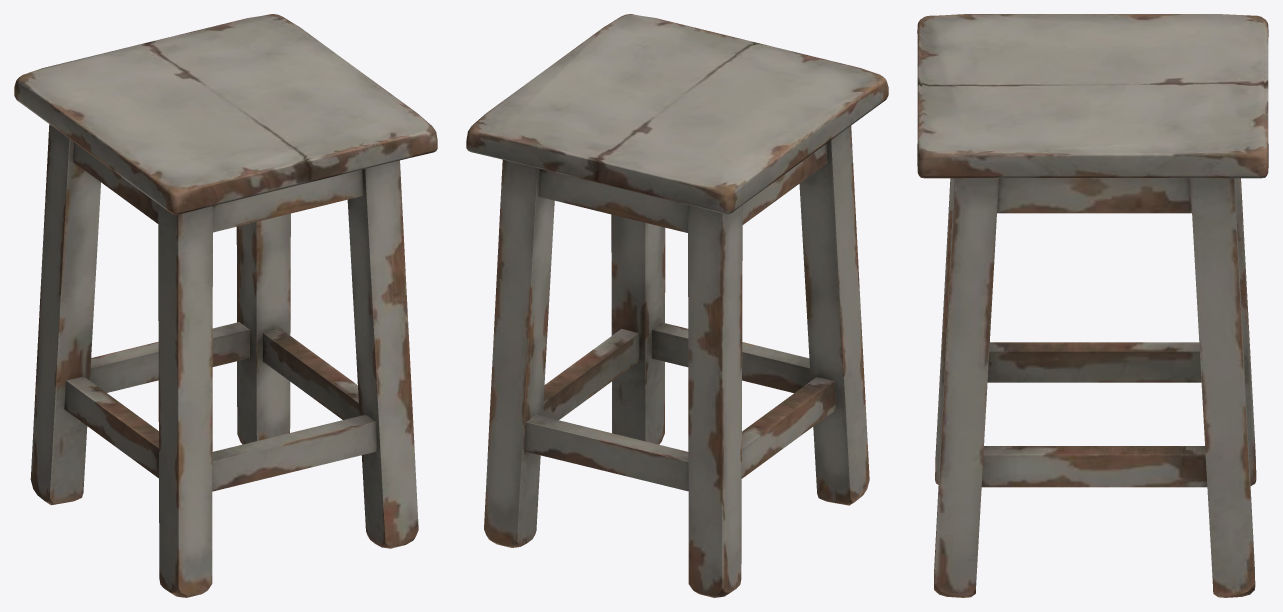
File: wooden-stool.glb
3 renders of one model, left to right at view 1: azimuth 30°, elevation 25°; view 2: azimuth 150°, elevation 25°; view 3: azimuth 270°, elevation 25°, orthographic. The views are drawn at different scales.
Parts seen in each view (by area): view 1: painted_wooden_stool; view 2: painted_wooden_stool; view 3: painted_wooden_stool.
Part boxes in pixels (box(x1,y1,x2,y2)): painted_wooden_stool: box(14, 14, 437, 597); painted_wooden_stool: box(466, 14, 888, 597); painted_wooden_stool: box(917, 14, 1268, 597).
Size of the model in its own units: 0.3848 by 0.5789 by 0.406.
1 material, 1 textured.
